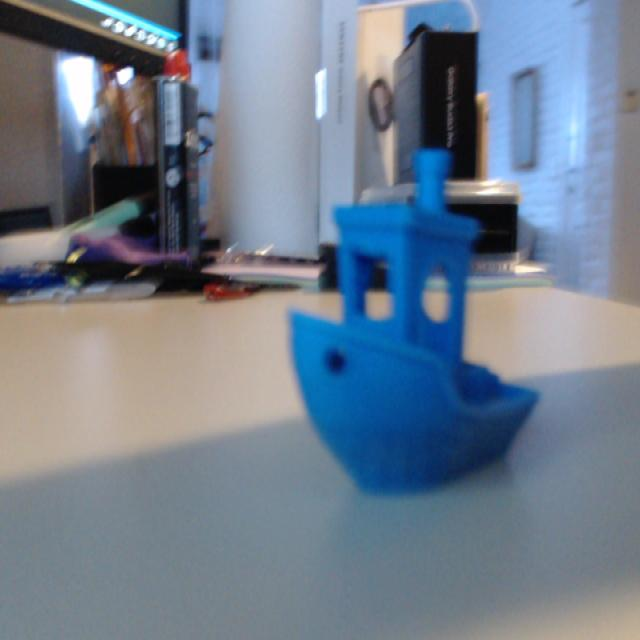benchy: (284, 145, 542, 499)
